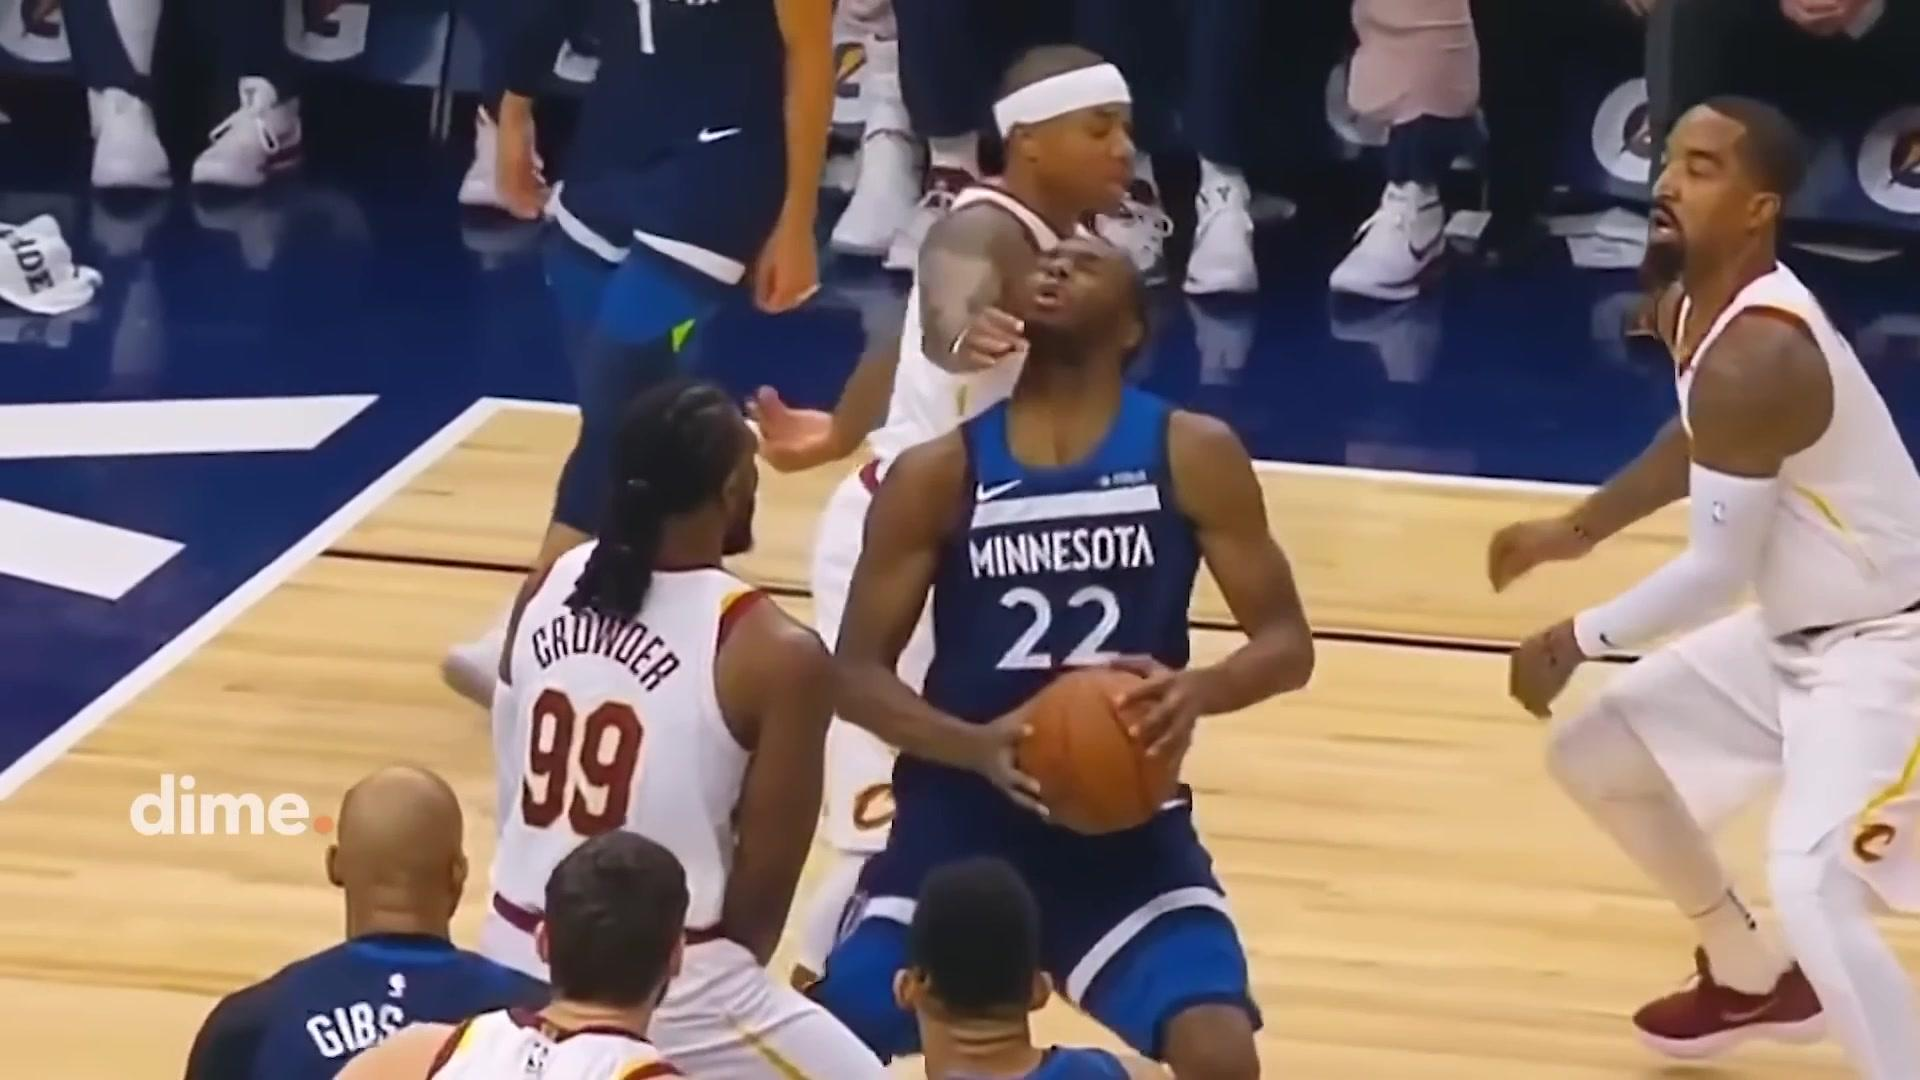foul: (824, 108, 1291, 1080)
